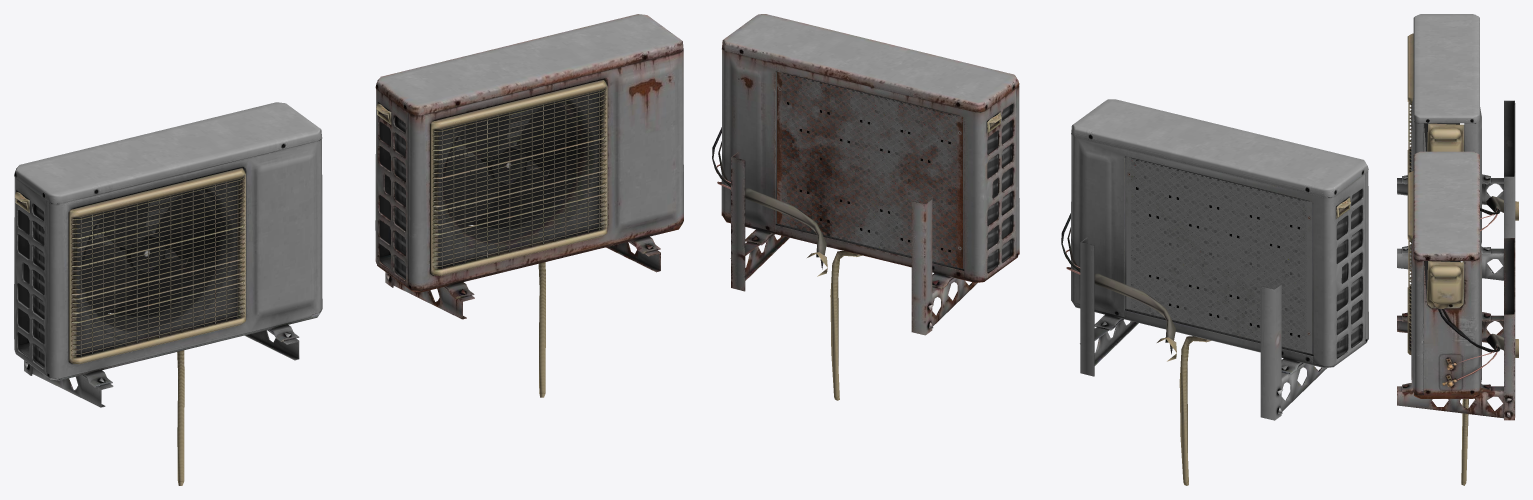
File: exterior_aircon_unit.glb
The picture shows the model from 3 angles, left to right: view 1: azimuth 30°, elevation 25°; view 2: azimuth 150°, elevation 25°; view 3: azimuth 270°, elevation 25°; orthographic projection. The views are drawn at different scales.
Parts seen in each view (by area): view 1: exterior_aircon_unit, exterior_aircon_unit_rusted; view 2: exterior_aircon_unit_rusted, exterior_aircon_unit; view 3: exterior_aircon_unit_rusted, exterior_aircon_unit.
Boxes of the visible parts, bbox=[...] form: exterior_aircon_unit: bbox=[14, 102, 322, 485]; exterior_aircon_unit_rusted: bbox=[375, 14, 683, 397]; exterior_aircon_unit_rusted: bbox=[712, 14, 1019, 400]; exterior_aircon_unit: bbox=[1061, 99, 1368, 485]; exterior_aircon_unit_rusted: bbox=[1397, 151, 1518, 485]; exterior_aircon_unit: bbox=[1397, 14, 1518, 280].
Size of the model in its own units: 1.8 by 0.9277 by 0.3742.
4 materials, 4 textured.
